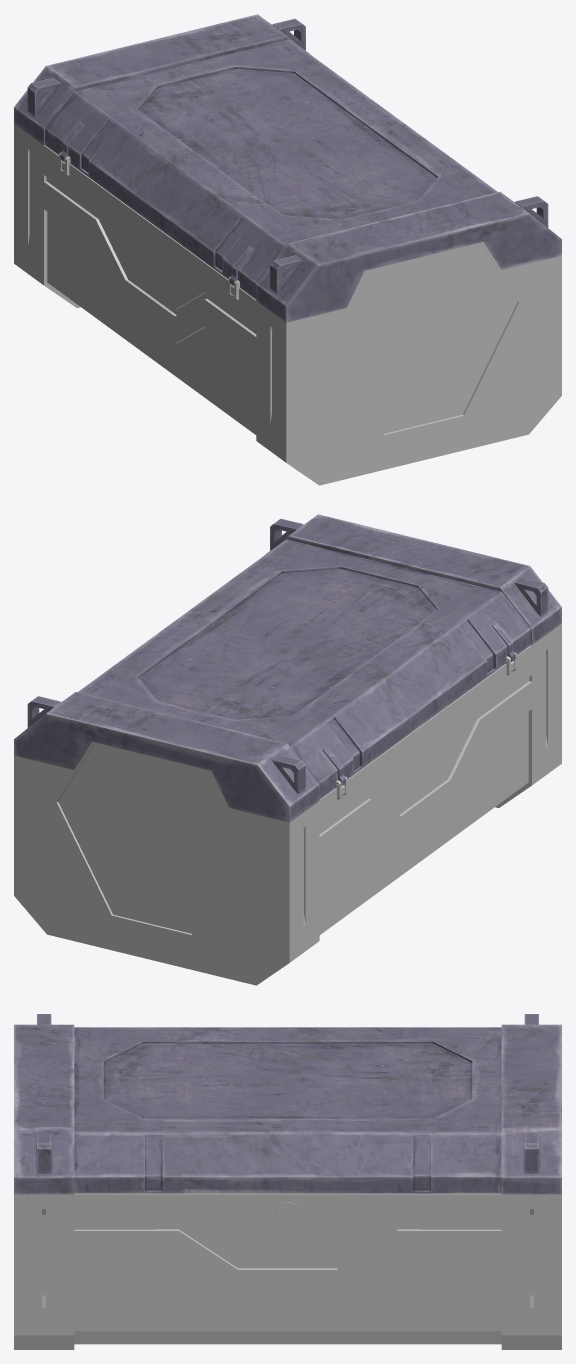
File: container.gltf
The picture shows the model from 3 angles, top to bottom: view 1: azimuth 30°, elevation 25°; view 2: azimuth 150°, elevation 25°; view 3: azimuth 270°, elevation 25°; orthographic projection.
Visible parts, largest first — view 1: container_w_inside, container_w_inside_top, container; view 2: container_w_inside, container_w_inside_top, container; view 3: container_w_inside_top, container_w_inside, container.
Part boxes in pixels (x1=…): container_w_inside: x1=14, y1=124, x2=561, y2=485; container_w_inside_top: x1=14, y1=14, x2=561, y2=322; container: x1=14, y1=128, x2=561, y2=484; container_w_inside: x1=14, y1=624, x2=561, y2=985; container_w_inside_top: x1=14, y1=514, x2=561, y2=822; container: x1=14, y1=628, x2=561, y2=984; container_w_inside_top: x1=14, y1=1014, x2=561, y2=1194; container_w_inside: x1=14, y1=1193, x2=561, y2=1349; container: x1=14, y1=1198, x2=561, y2=1349.
Bounding box in the file's own units: 2.08 × 1.57 × 3.51.
